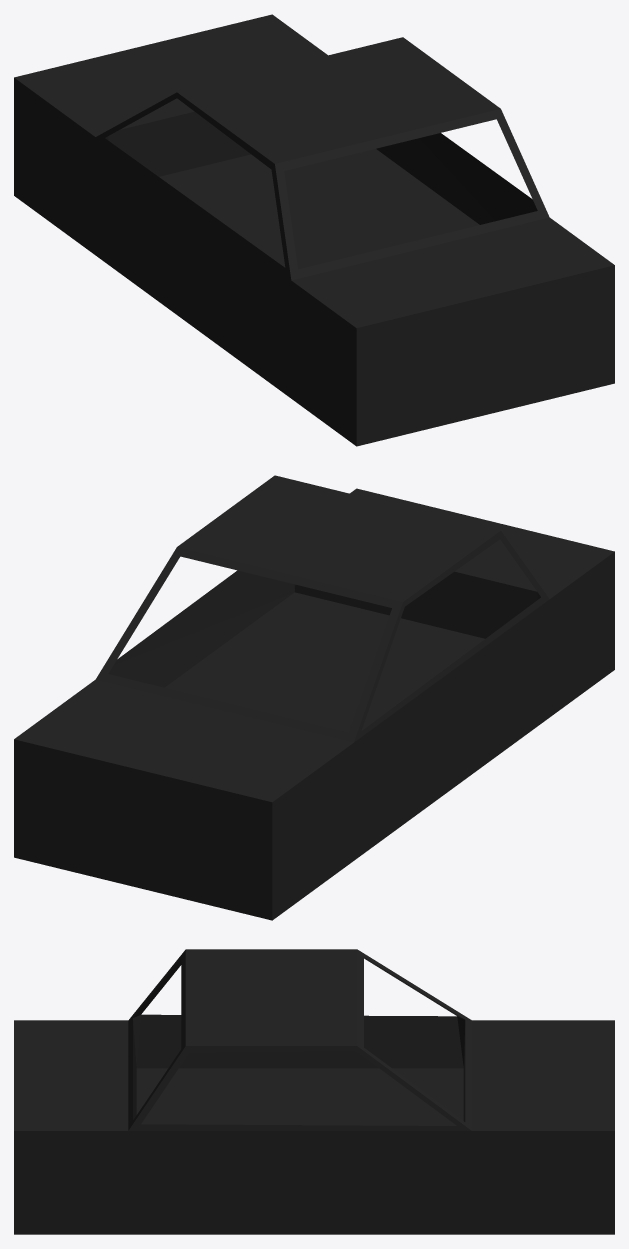
File: metro.glb
3 views of the same model, one above another, from view 1: azimuth 30°, elevation 25°; view 2: azimuth 150°, elevation 25°; view 3: azimuth 270°, elevation 25° (orthographic). The views are drawn at different scales.
Parts seen in each view (by area): view 1: vehicles/metro; view 2: vehicles/metro; view 3: vehicles/metro.
Boxes of the visible parts, left/top/right/bottom form: vehicles/metro: left=14, top=14, right=614, bottom=446; vehicles/metro: left=14, top=475, right=614, bottom=920; vehicles/metro: left=14, top=949, right=614, bottom=1234.
Bounding box in the file's own units: 2 × 1.53 × 4.59.
Materials: 2 (2 with a texture image).
